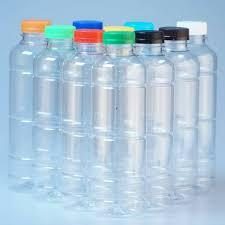BIODEGRADABLE: (19, 21, 78, 194), (95, 25, 145, 213), (169, 17, 218, 198), (63, 29, 111, 209), (155, 24, 201, 199), (135, 28, 178, 214), (7, 15, 52, 185)
